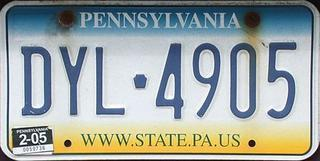placa de veiculo: (6, 1, 314, 157)
